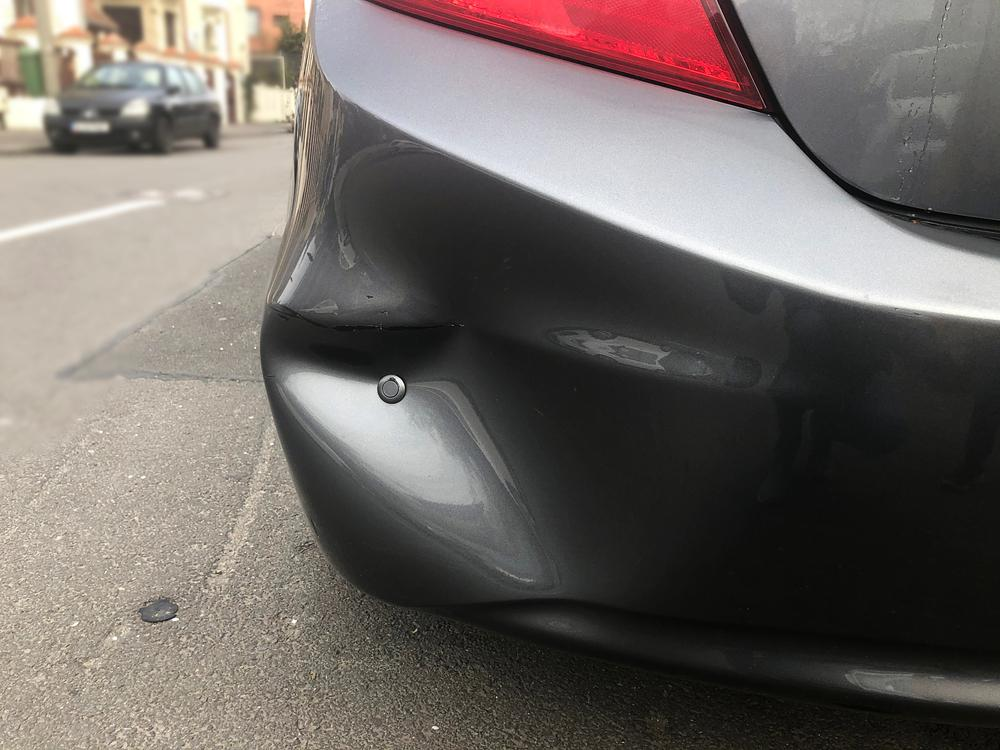dent: (266, 143, 732, 596)
